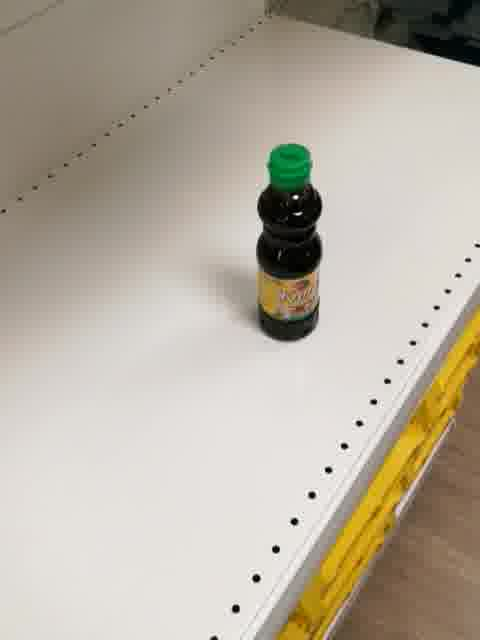cookingoil: (254, 141, 325, 347)
